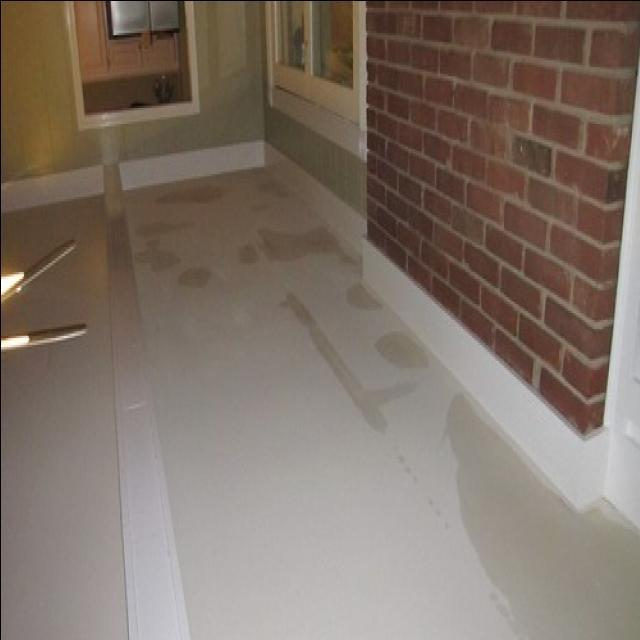leak: (444, 391, 640, 640), (275, 288, 435, 436), (230, 168, 350, 282), (125, 176, 236, 298)
